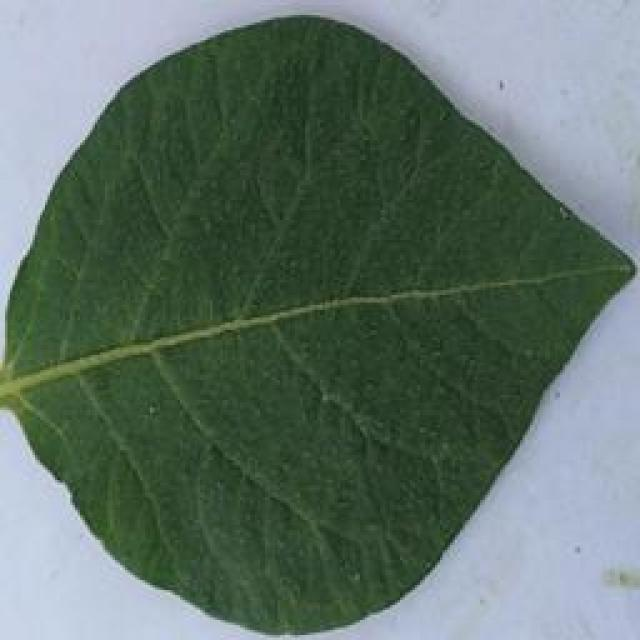Potato_Healthy: (4, 8, 632, 629)
